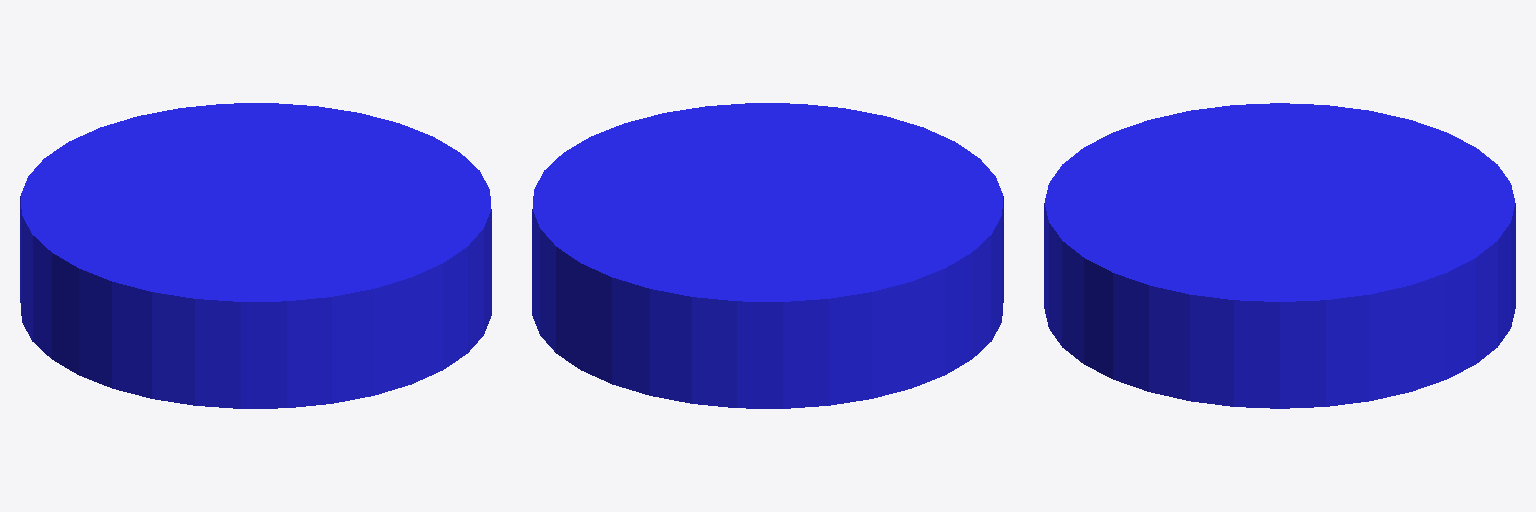
URDF robot description (cube.urdf):
<?xml version="0.0" ?>
<robot name="cube.urdf">
  <link name="baseLink">
    <contact>
      <lateral_friction value="1.0"/>
      <inertia_scaling value="3.0"/>
    </contact>
    <inertial>
      <origin rpy="0 0 0" xyz="0 0 0"/>
       <mass value="1.0"/>
       <inertia ixx="1" ixy="0" ixz="0" iyy="1" iyz="0" izz="1"/>
    </inertial>
    <visual>
      <origin rpy="0 0 0" xyz="0 0 0"/>
      <geometry>
			<cylinder length="0.5" radius="1.0"/>
      </geometry>
       <material name="white">
        <color rgba="0.2 0.2 1 1"/>
      </material>
    </visual>
    <collision>
      <origin rpy="0 0 0" xyz="0 0 0"/>
      <geometry>
	 	<box size="1.0 1.0 1.0"/>
      </geometry>
    </collision>
  </link>
</robot>

--- What the picture shows (computed from the rendered views, not written in the file) ---
3 views of the same robot in one strip: view 1: azimuth 30°, elevation 25°; view 2: azimuth 150°, elevation 25°; view 3: azimuth 270°, elevation 25° (orthographic).
Model cube.urdf with 1 links and 0 joints (none), rooted at baseLink, posed every joint at zero.
Links seen in each view (by area): view 1: baseLink; view 2: baseLink; view 3: baseLink.
Boxes of the visible links, x1,y1,x2,y2 form: baseLink: (20,103,491,408); baseLink: (532,103,1003,408); baseLink: (1044,103,1515,408).
Bounding box of the posed robot: 2 × 2 × 0.5 m (x, y, z).
Geometry: primitives only (box / cylinder / sphere), no mesh files.